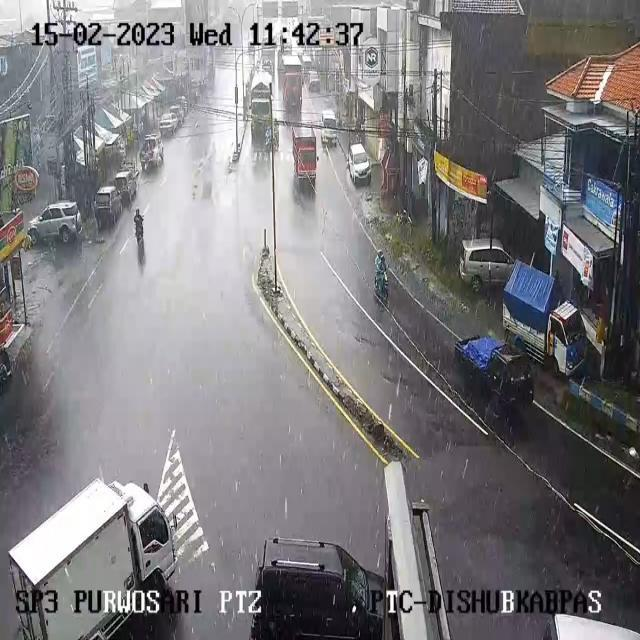Car: (249, 536, 387, 638), (456, 238, 510, 293), (21, 200, 81, 247), (92, 186, 126, 228), (347, 143, 371, 185), (114, 168, 140, 204), (140, 134, 164, 170), (320, 109, 338, 142), (159, 112, 179, 135), (169, 104, 186, 126), (306, 70, 321, 93), (176, 96, 189, 118), (301, 54, 313, 76), (190, 78, 202, 98), (262, 58, 272, 73)
Motorbike: (370, 244, 394, 302), (134, 212, 145, 256)
Truck: (0, 476, 173, 616), (292, 130, 318, 187), (251, 72, 273, 132), (283, 58, 301, 110)
